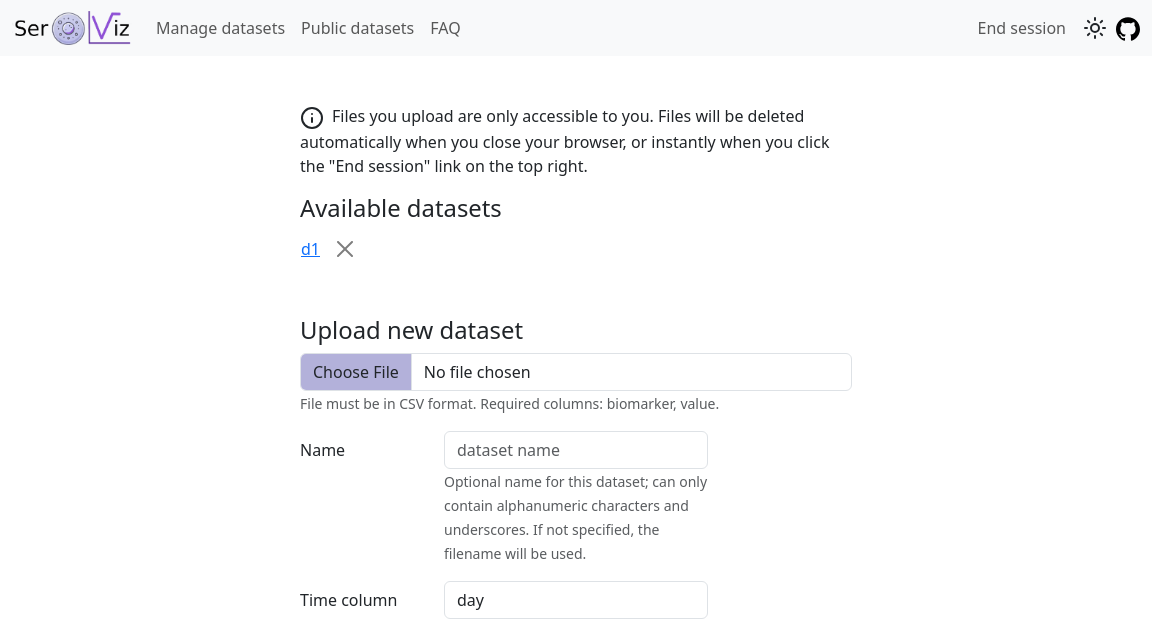
Test: <App /> › should fetch dataset metadata if dataset selected
The width and height of the screenshot is (1152, 622).
Click the button "d1". click: (310, 249)
box: [301,238,320,260]
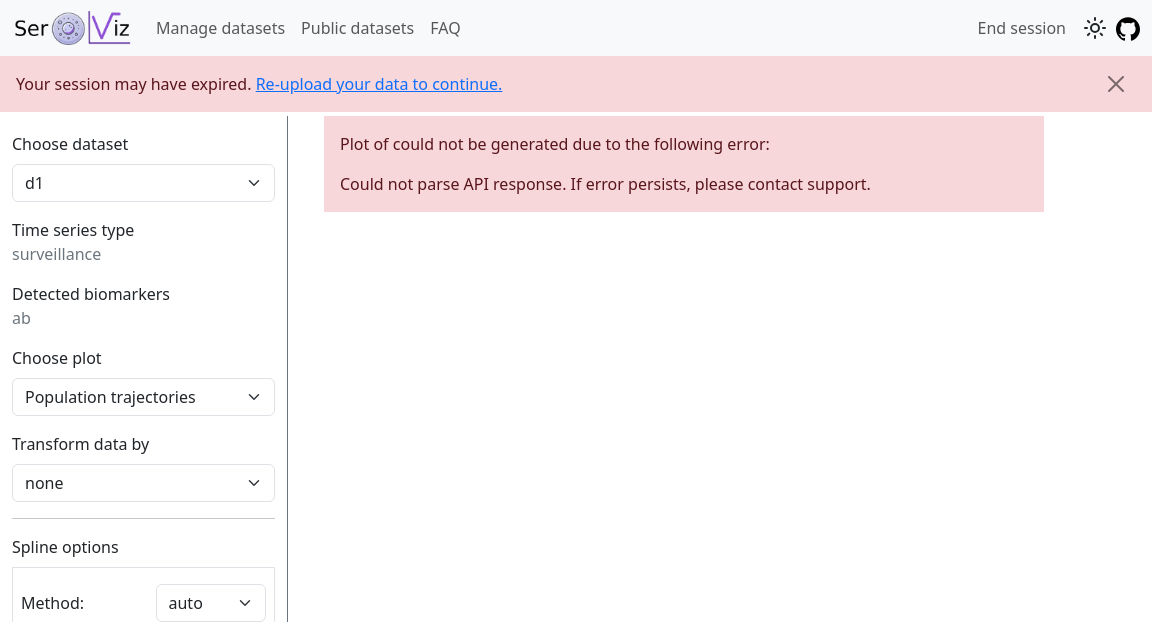
Check: the element showing "Detected biomarkers ab" is shown, box [12,283,170,329]
